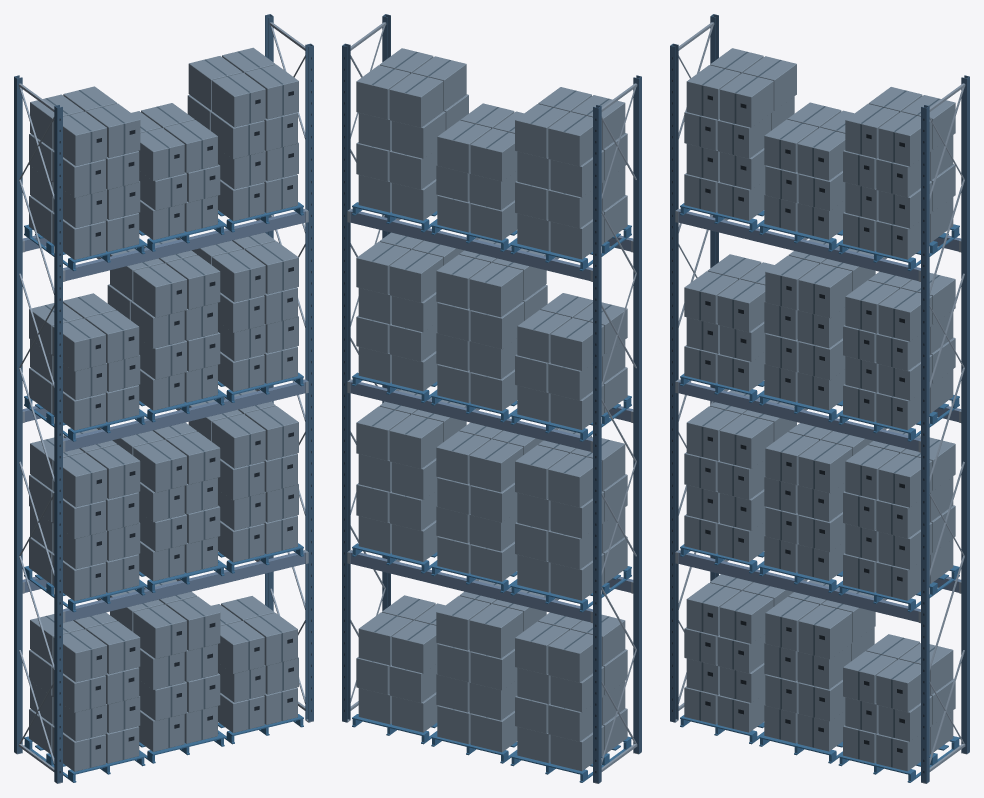
File: SM_GHS_V2Rack_A_W36363.fbx
3 views of the same model, side by side, from view 1: azimuth 30°, elevation 25°; view 2: azimuth 150°, elevation 25°; view 3: azimuth 330°, elevation 25° (orthographic).
Parts seen in each view (by area): view 1: SM_GHS_V2Rack_A_W36363; view 2: SM_GHS_V2Rack_A_W36363; view 3: SM_GHS_V2Rack_A_W36363.
Boxes of the visible parts, x1,y1,x2,y2 form: SM_GHS_V2Rack_A_W36363: [14, 14, 313, 783]; SM_GHS_V2Rack_A_W36363: [342, 14, 641, 783]; SM_GHS_V2Rack_A_W36363: [670, 14, 969, 783].
Bounding box in the file's own units: 364 × 122 × 915.
